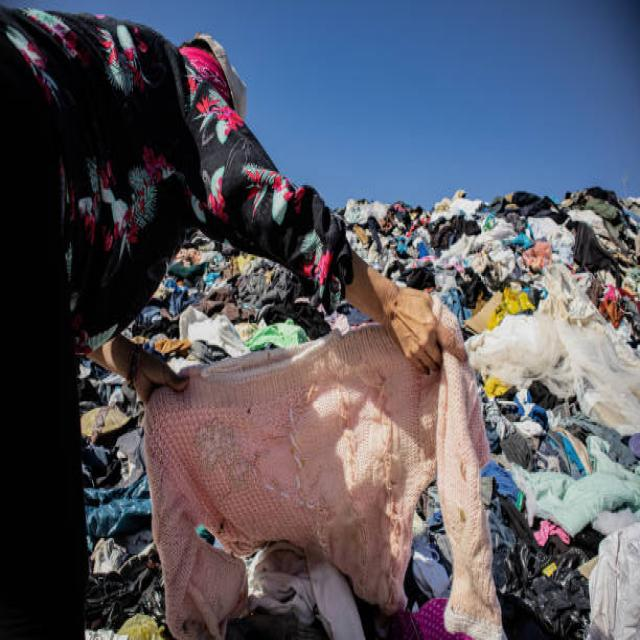trash: (106, 209, 610, 596)
